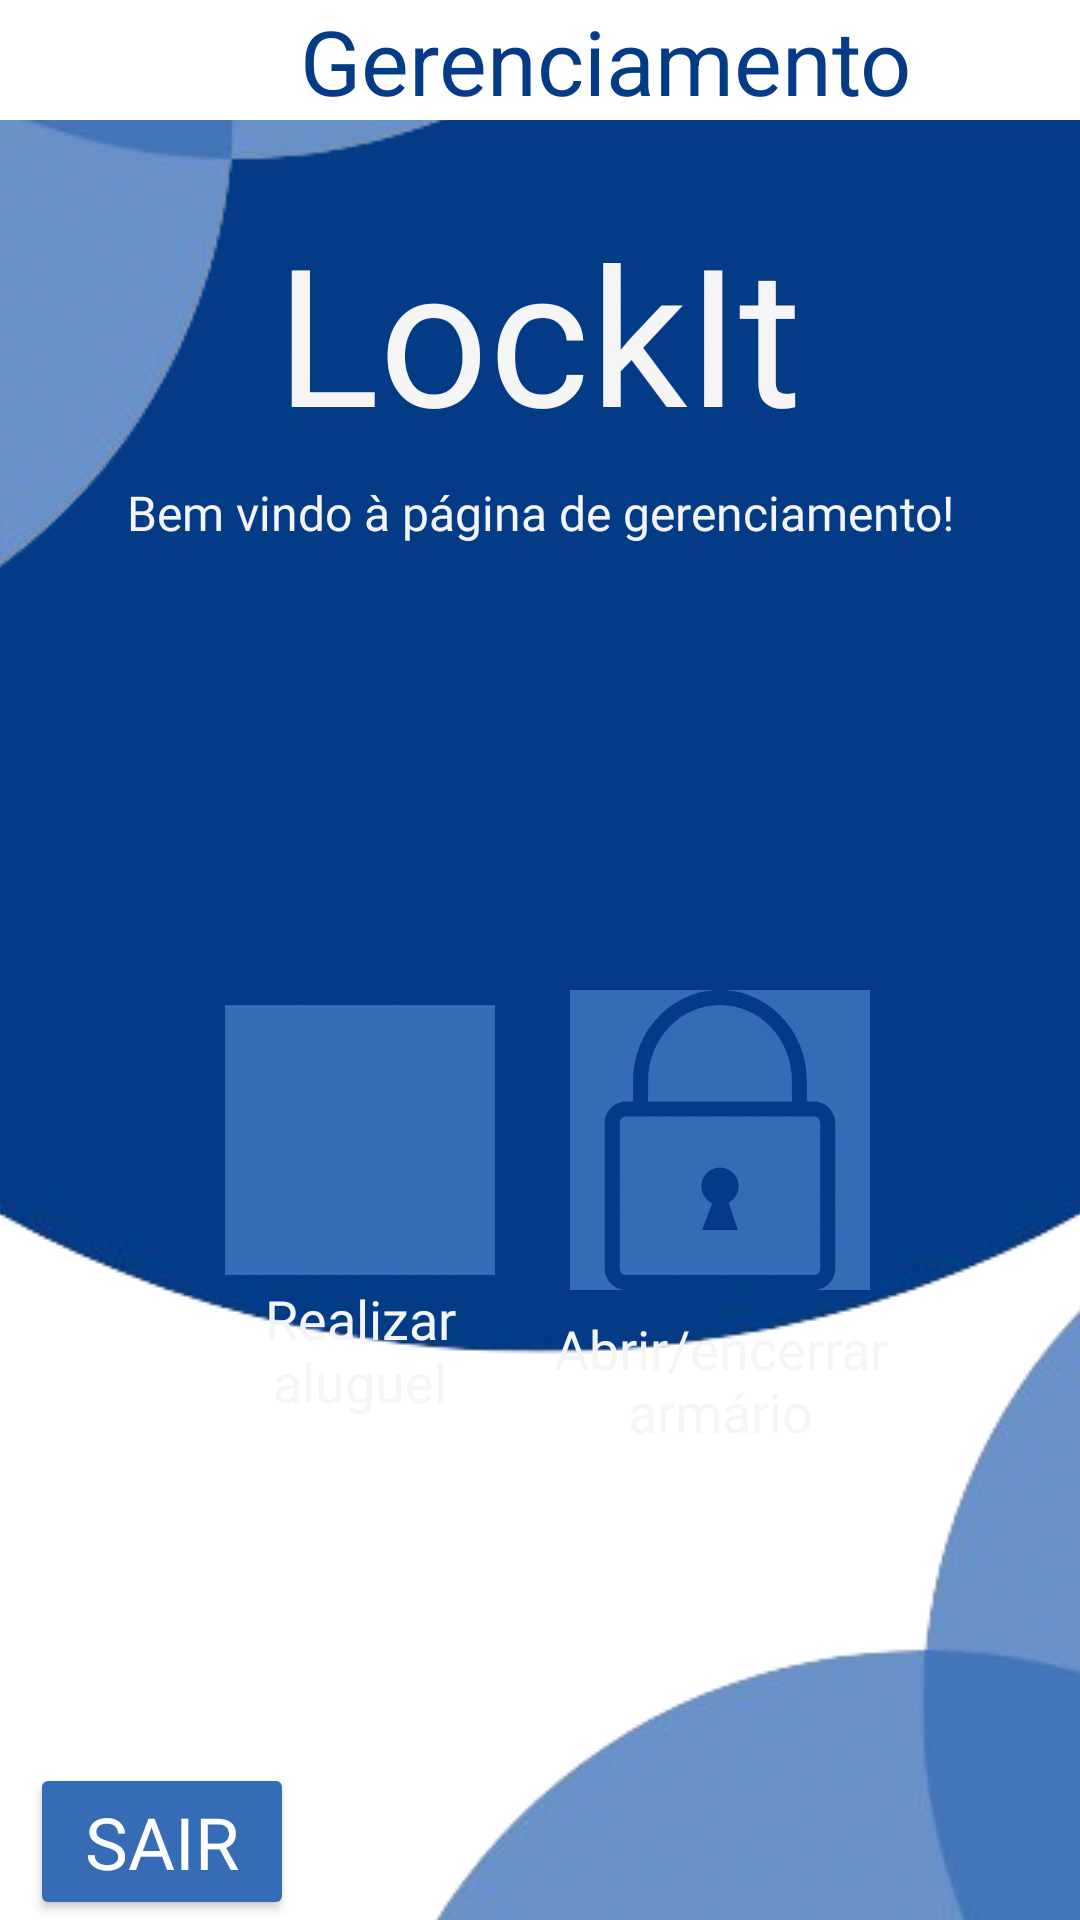

Named icons in this screenshot (1080x1920) and their bounding boxes, bbox=(x1, y1, x2, y2):
lock: bbox=(570, 990, 870, 1290)
